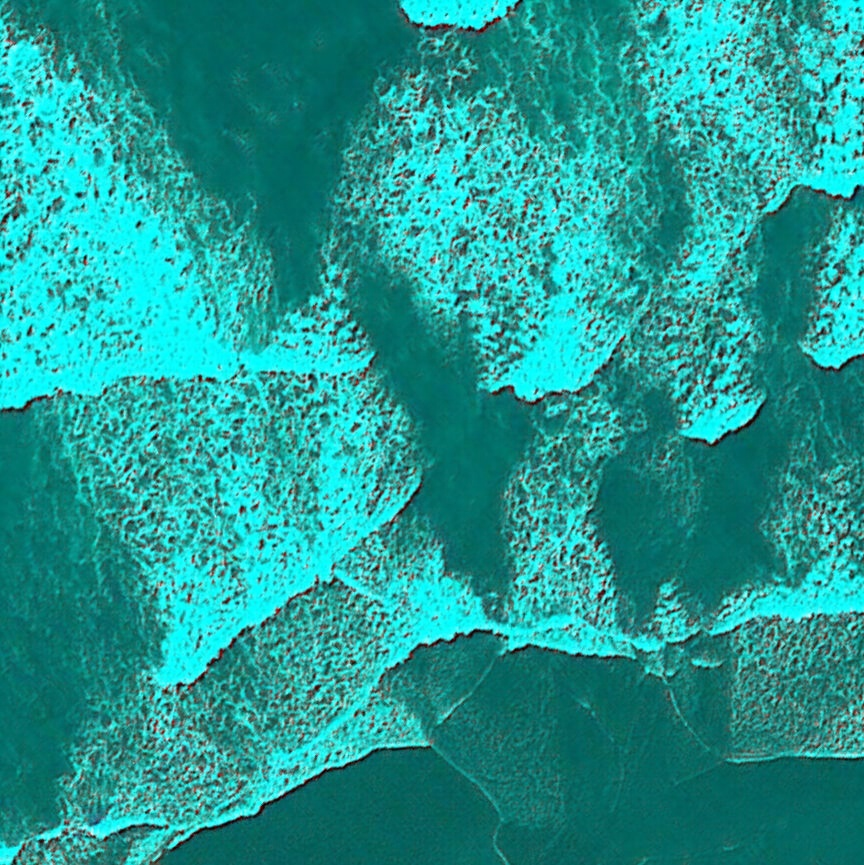rip_current: (233, 137, 604, 649)
